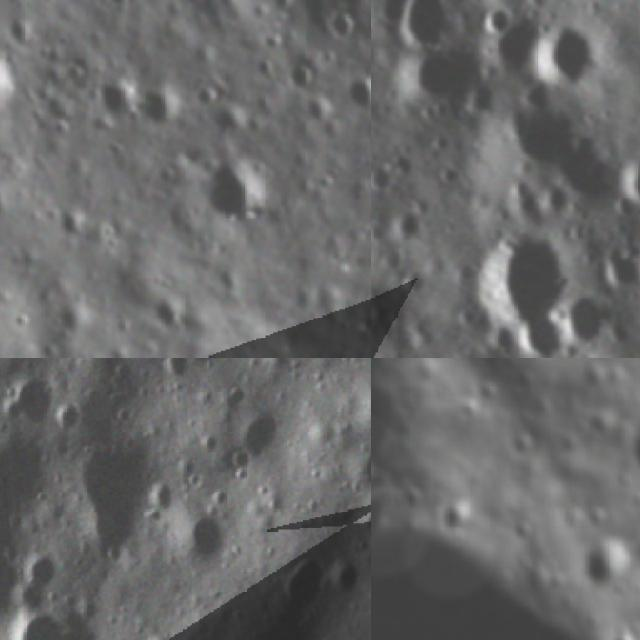crater: (464, 206, 582, 332), (67, 434, 170, 565), (533, 115, 640, 223), (485, 82, 581, 178), (380, 36, 482, 121), (199, 147, 280, 236), (532, 10, 610, 102), (268, 536, 347, 626), (384, 0, 477, 59), (482, 8, 552, 82), (565, 527, 639, 594), (10, 540, 73, 616), (553, 281, 616, 347), (1, 608, 122, 640), (426, 481, 484, 544), (509, 305, 575, 358), (1, 378, 64, 432), (497, 170, 555, 226), (134, 79, 182, 137), (594, 237, 640, 296), (608, 142, 640, 223), (93, 72, 140, 125), (143, 290, 190, 341), (382, 199, 428, 247), (480, 312, 527, 358), (202, 96, 248, 142), (322, 3, 366, 51), (0, 40, 25, 121), (394, 257, 437, 300), (337, 66, 371, 118), (53, 396, 90, 438), (282, 59, 323, 96), (480, 0, 515, 41), (594, 614, 640, 640), (422, 125, 453, 158), (371, 53, 385, 114), (557, 341, 605, 358), (371, 160, 394, 195), (136, 630, 179, 640), (101, 0, 140, 11)
